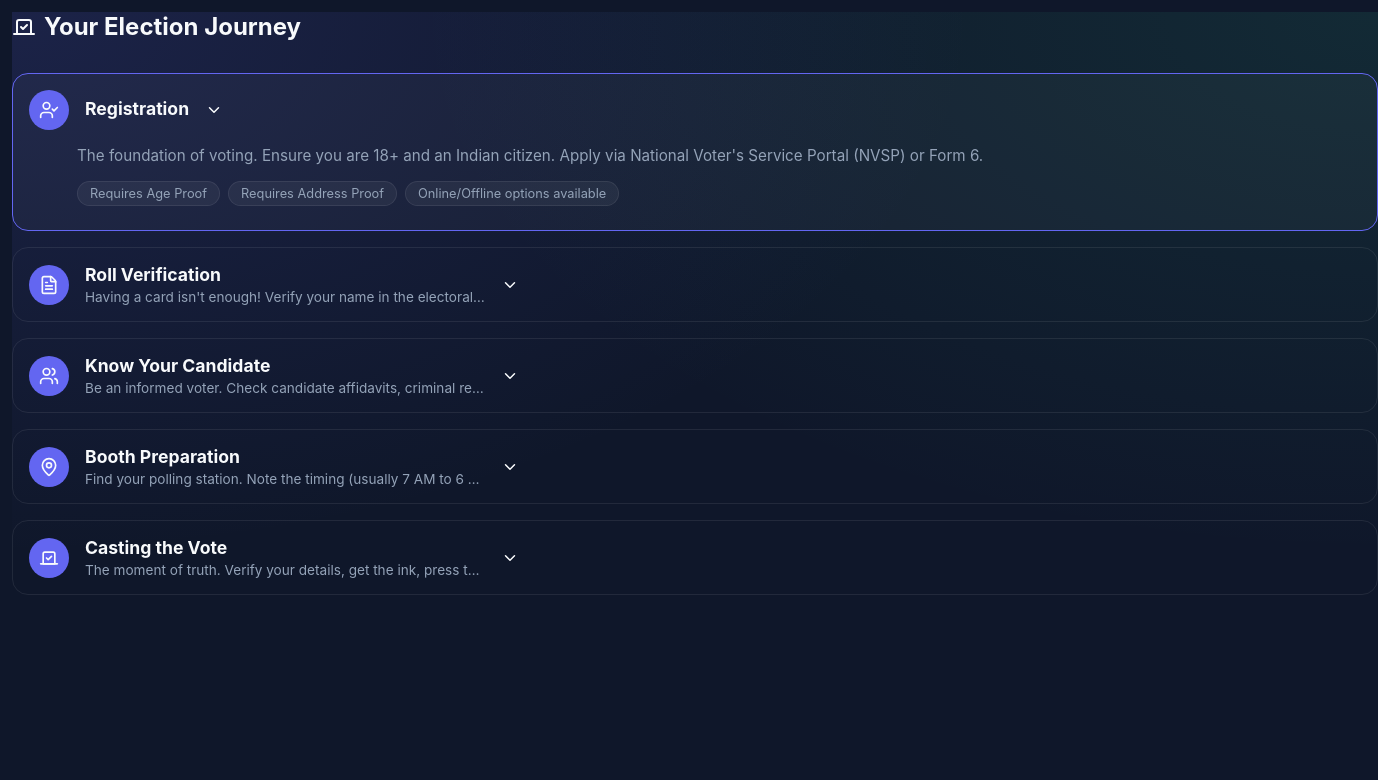
Test: ElectionTimeline Component › expands a step on click and shows details
The width and height of the screenshot is (1378, 780).
Click the heading "Roll Verification".
click(153, 274)  # box [85,264,221,285]
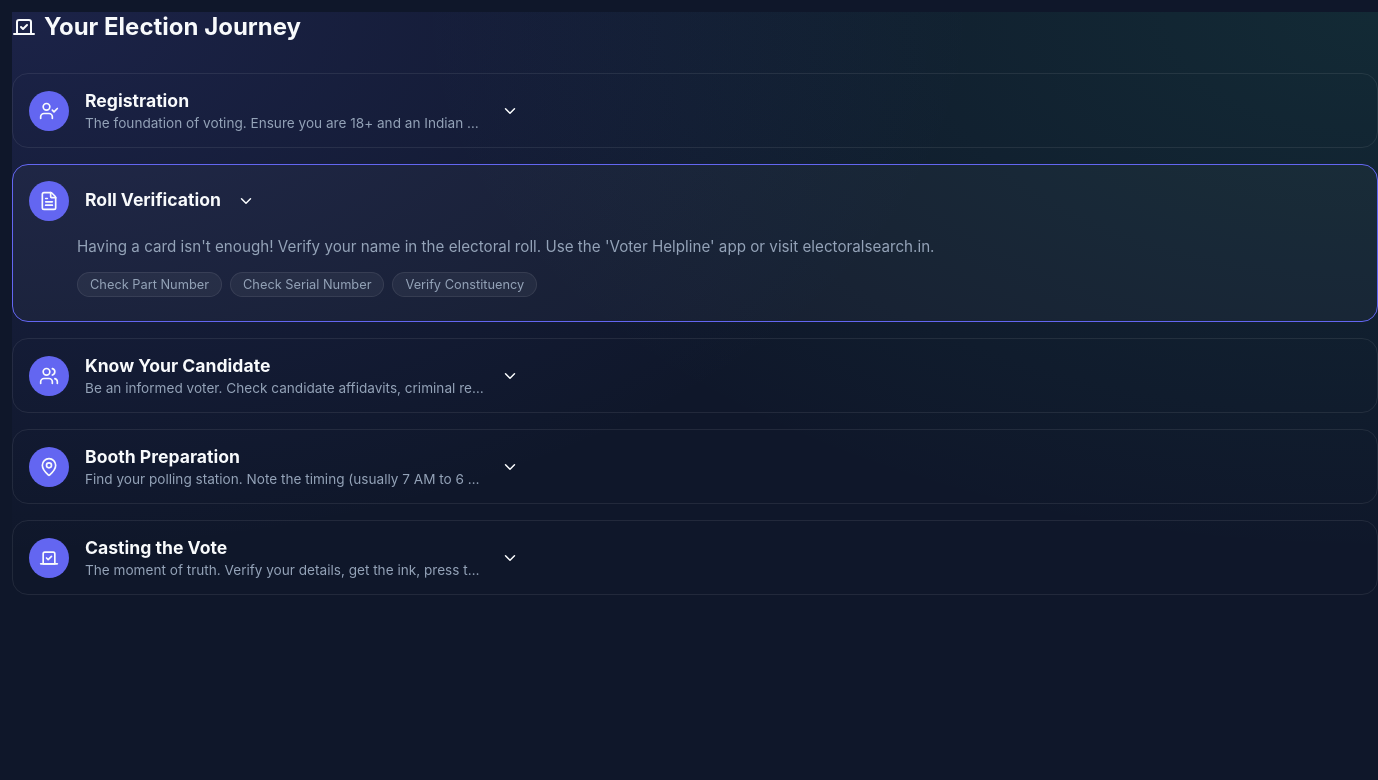
Expected: the text "visit electoralsearch.in" is shown, [77,237,934,256]
Expected: the list item "Check Part Number" is shown, [77,272,222,297]
